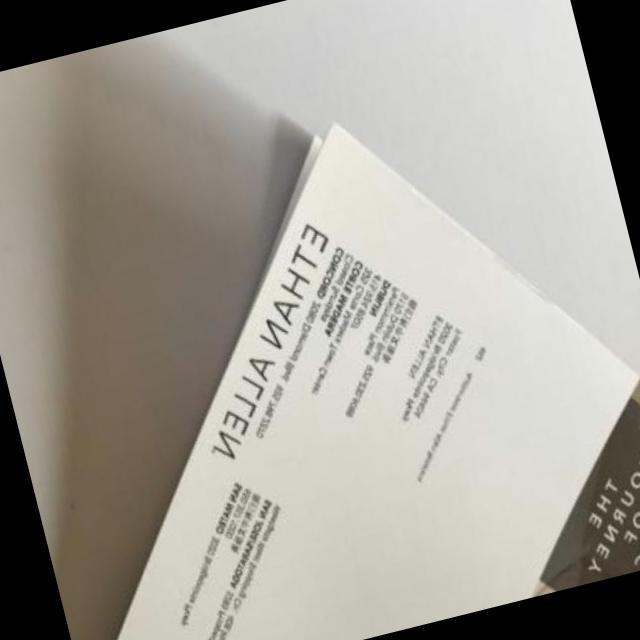cardboard paper: (117, 123, 640, 640)
